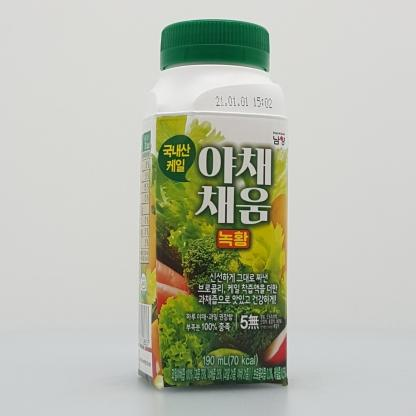---------190ML: (137, 18, 288, 390)
